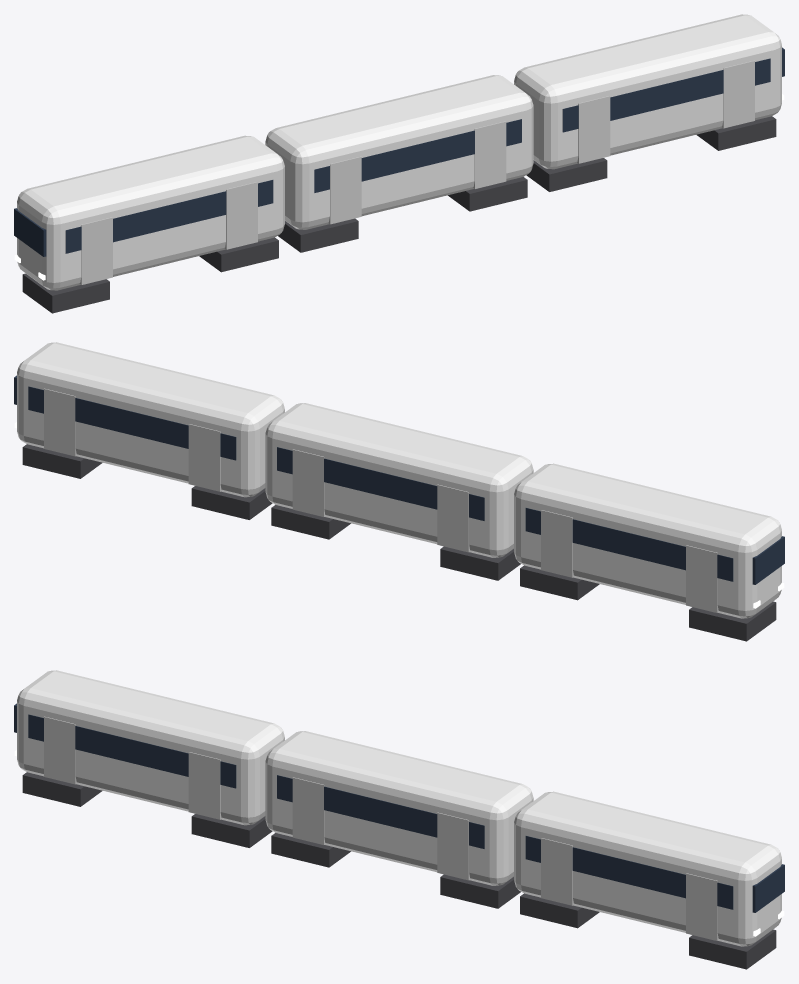
Rendered from train_tram.glb.
3 renders of one model, top to bottom at view 1: azimuth 30°, elevation 25°; view 2: azimuth 150°, elevation 25°; view 3: azimuth 330°, elevation 25°, orthographic.
Parts seen in each view (by area): view 1: train_tram; view 2: train_tram; view 3: train_tram.
Part boxes in pixels (<box>): train_tram: <box>14,14,784,313</box>; train_tram: <box>14,342,784,641</box>; train_tram: <box>14,670,784,969</box>.
Size of the model in its own units: 30.72 by 4.1 by 2.71.
